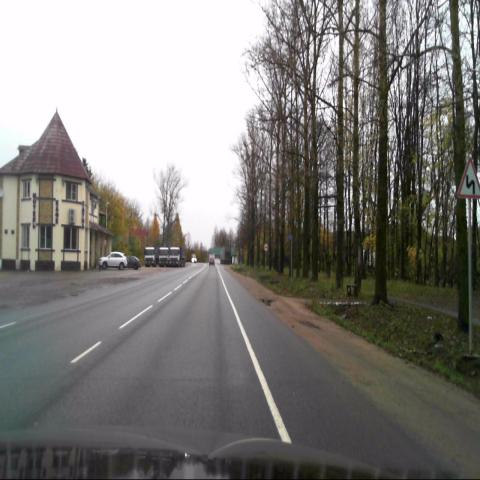1_12_2: (458, 157, 480, 199)
